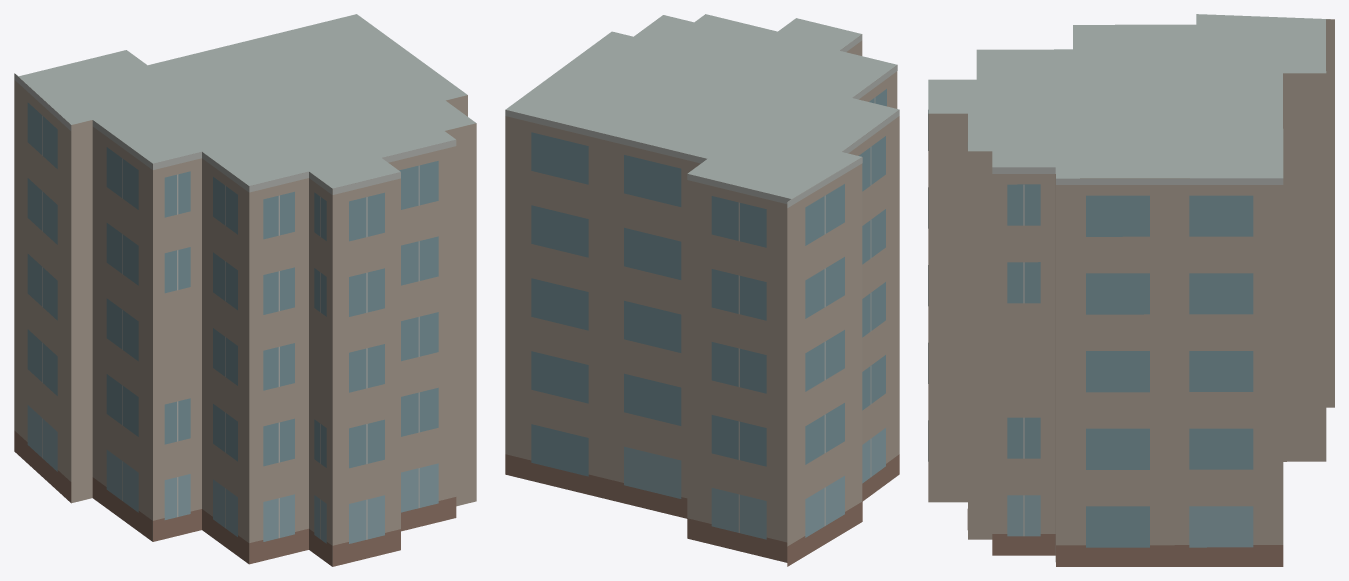
File: survey-upis-32751162.glb
The picture shows the model from 3 angles, left to right: view 1: azimuth 30°, elevation 25°; view 2: azimuth 150°, elevation 25°; view 3: azimuth 270°, elevation 25°; orthographic projection. The views are drawn at different scales.
Parts seen in each view (by area): view 1: survey-upis-32751162.tmp; view 2: survey-upis-32751162.tmp; view 3: survey-upis-32751162.tmp.
Part boxes in pixels (bbox=[...]): survey-upis-32751162.tmp: bbox=[14, 14, 476, 566]; survey-upis-32751162.tmp: bbox=[505, 14, 899, 566]; survey-upis-32751162.tmp: bbox=[928, 14, 1334, 566].
Bounding box in the file's own units: 12.9 × 14.2 × 13.48.
